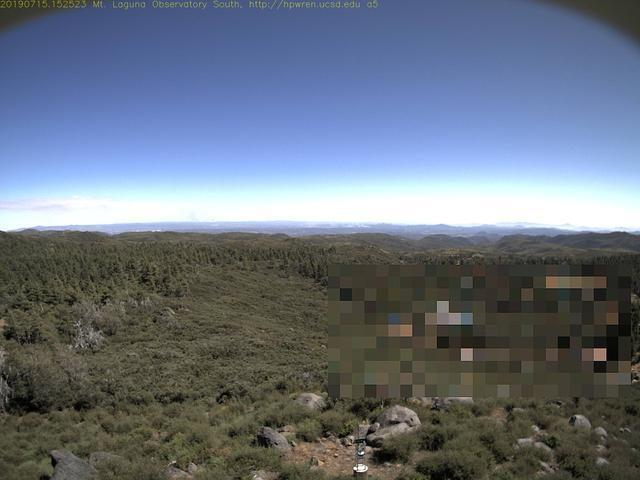Smoke: (184, 211, 200, 231)
